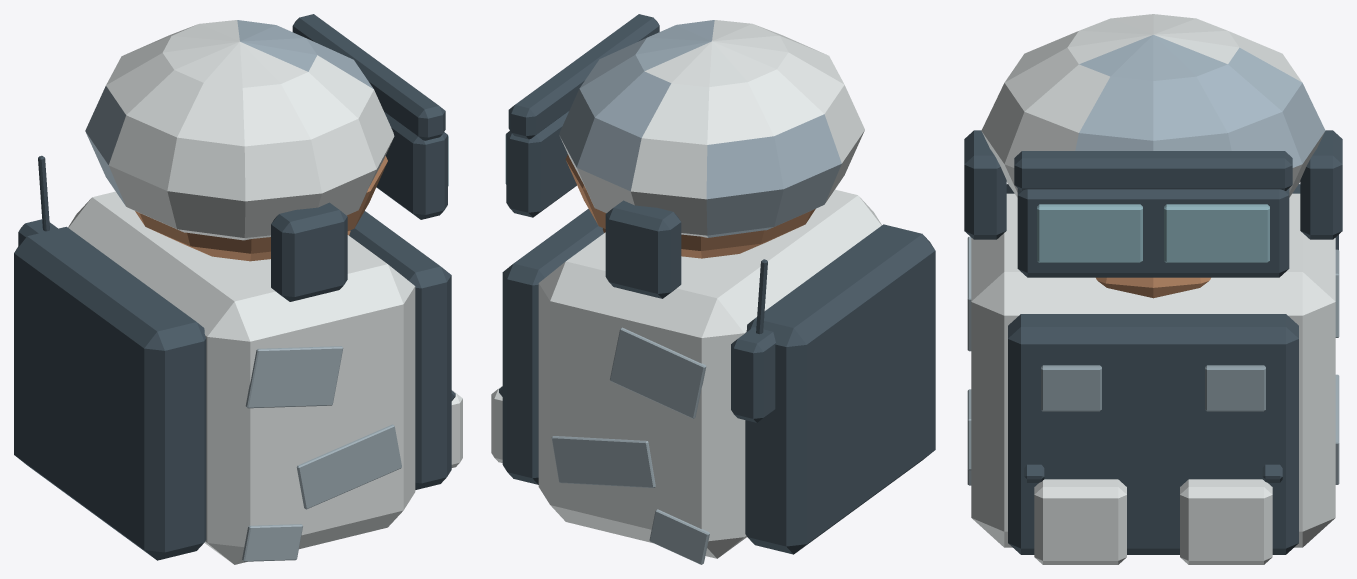
Rendered from urban-assault.polar-camo.glb.
3 views of the same model, side by side, from view 1: azimuth 30°, elevation 25°; view 2: azimuth 150°, elevation 25°; view 3: azimuth 270°, elevation 25° (orthographic). The views are drawn at different scales.
Visible parts, largest first — view 1: urban-assault_polar-camo__main__torso_finish_485863_0.03, urban-assault_polar-camo__main__torso_finish_e0e5e5_0.03, urban-assault_polar-camo__main__head_finish_e0e5e5_0.03|fini, urban-assault_polar-camo__main__head_finish_485863_0.03, urban-assault_polar-camo__main__torso_finish_a0afb7_0.03, urban-assault_polar-camo__main__head_finish_c38f6a_0.03; view 2: urban-assault_polar-camo__main__torso_finish_485863_0.03, urban-assault_polar-camo__main__torso_finish_e0e5e5_0.03, urban-assault_polar-camo__main__head_finish_e0e5e5_0.03|fini, urban-assault_polar-camo__main__head_finish_485863_0.03, urban-assault_polar-camo__main__torso_finish_a0afb7_0.03, urban-assault_polar-camo__main__head_finish_c38f6a_0.03; view 3: urban-assault_polar-camo__main__torso_finish_485863_0.03, urban-assault_polar-camo__main__torso_finish_e0e5e5_0.03, urban-assault_polar-camo__main__head_finish_e0e5e5_0.03|fini, urban-assault_polar-camo__main__head_finish_485863_0.03, urban-assault_polar-camo__main__head_finish_91b6c0_0.03, urban-assault_polar-camo__main__torso_finish_93a4ad_0.03, urban-assault_polar-camo__main__torso_finish_a0afb7_0.03, urban-assault_polar-camo__main__head_finish_c38f6a_0.03.
Boxes of the visible parts, x1,y1,x2,y2 form: urban-assault_polar-camo__main__torso_finish_485863_0.03: [14, 155, 455, 560]; urban-assault_polar-camo__main__torso_finish_e0e5e5_0.03: [68, 191, 462, 564]; urban-assault_polar-camo__main__head_finish_e0e5e5_0.03|fini: [85, 20, 394, 240]; urban-assault_polar-camo__main__head_finish_485863_0.03: [271, 14, 447, 301]; urban-assault_polar-camo__main__torso_finish_a0afb7_0.03: [242, 346, 401, 561]; urban-assault_polar-camo__main__head_finish_c38f6a_0.03: [135, 156, 387, 261]; urban-assault_polar-camo__main__torso_finish_485863_0.03: [499, 209, 935, 554]; urban-assault_polar-camo__main__torso_finish_e0e5e5_0.03: [491, 189, 881, 558]; urban-assault_polar-camo__main__head_finish_e0e5e5_0.03|fini: [559, 20, 864, 237]; urban-assault_polar-camo__main__head_finish_485863_0.03: [506, 14, 681, 298]; urban-assault_polar-camo__main__torso_finish_a0afb7_0.03: [551, 327, 709, 564]; urban-assault_polar-camo__main__head_finish_c38f6a_0.03: [565, 154, 815, 258]; urban-assault_polar-camo__main__torso_finish_485863_0.03: [1006, 184, 1338, 554]; urban-assault_polar-camo__main__torso_finish_e0e5e5_0.03: [971, 193, 1335, 564]; urban-assault_polar-camo__main__head_finish_e0e5e5_0.03|fini: [981, 14, 1325, 197]; urban-assault_polar-camo__main__head_finish_485863_0.03: [964, 130, 1342, 277]; urban-assault_polar-camo__main__head_finish_91b6c0_0.03: [1037, 204, 1269, 262]; urban-assault_polar-camo__main__torso_finish_93a4ad_0.03: [1041, 365, 1265, 411]; urban-assault_polar-camo__main__torso_finish_a0afb7_0.03: [967, 236, 1339, 485]; urban-assault_polar-camo__main__head_finish_c38f6a_0.03: [1096, 277, 1210, 298].
Bounding box in the file's own units: 30.25 × 39.5 × 28.6.
